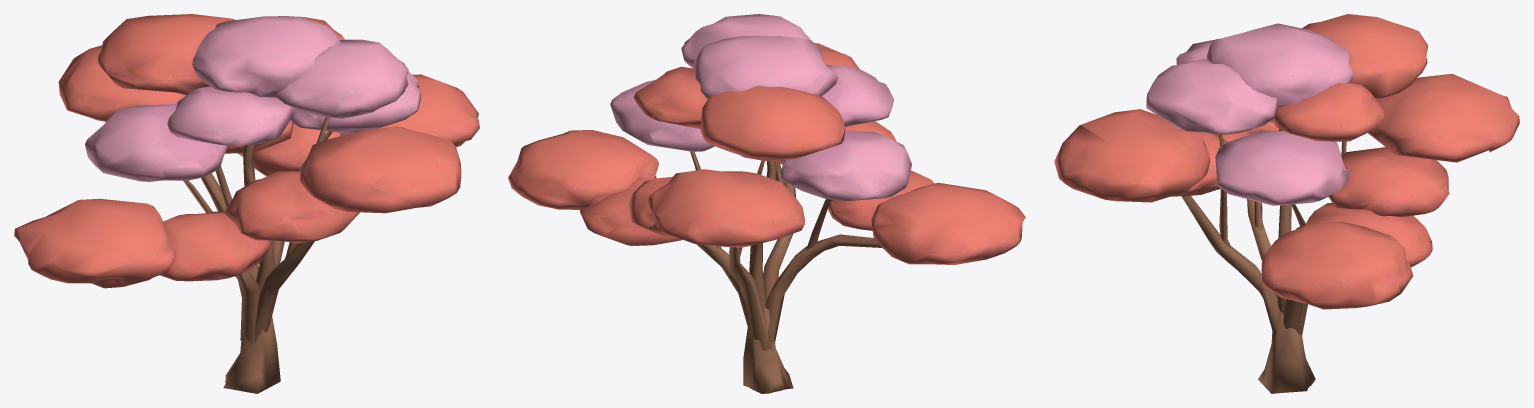
File: maple-tree.glb
3 views of the same model, side by side, from view 1: azimuth 30°, elevation 25°; view 2: azimuth 150°, elevation 25°; view 3: azimuth 270°, elevation 25° (orthographic). The views are drawn at different scales.
Visible parts, largest first — view 1: maple-tree_body; view 2: maple-tree_body; view 3: maple-tree_body.
Part boxes in pixels (<box>): maple-tree_body: <box>14,14,479,393</box>; maple-tree_body: <box>508,14,1025,393</box>; maple-tree_body: <box>1054,14,1519,393</box>.
Size of the model in its own units: 6.78 by 4.72 by 5.7.
Materials: 1 (1 with a texture image).
